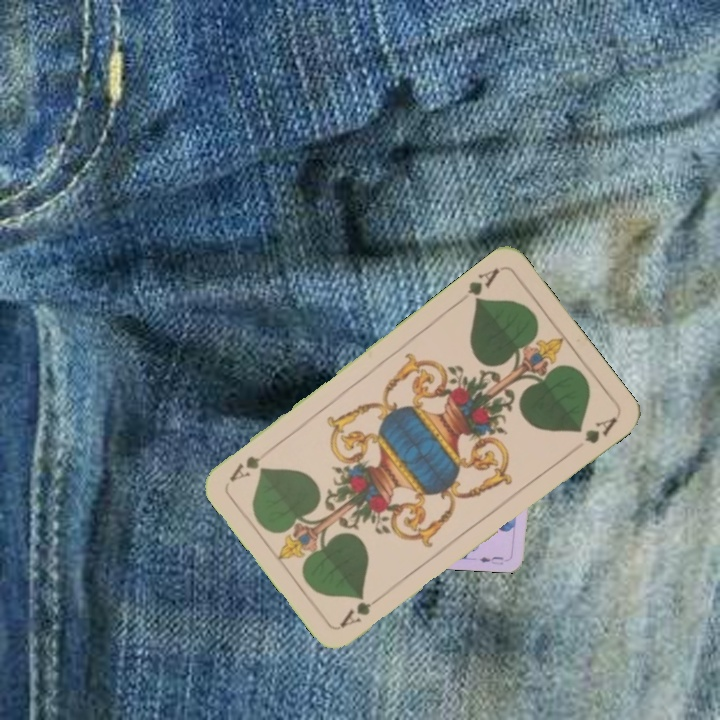GA: (336, 589, 387, 631), (463, 264, 503, 306)
